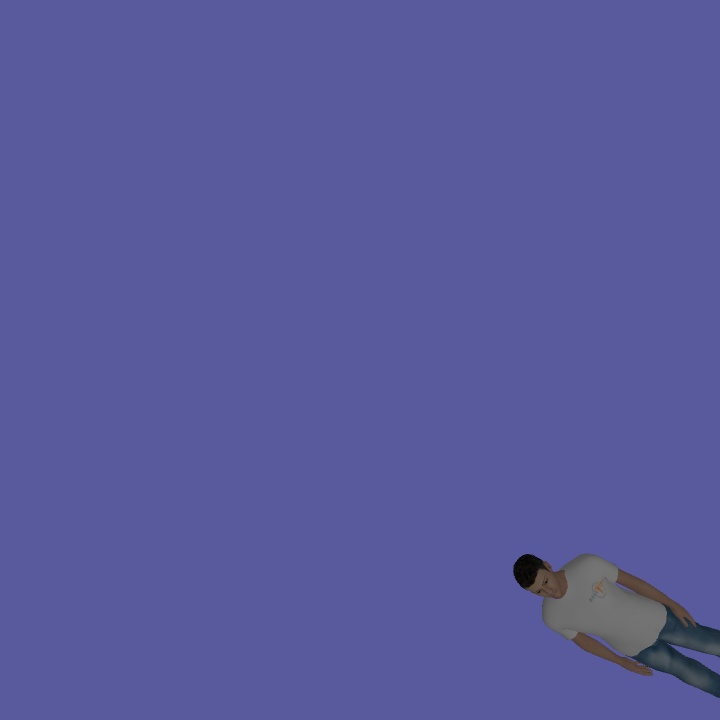victim: (511, 549, 720, 703)
